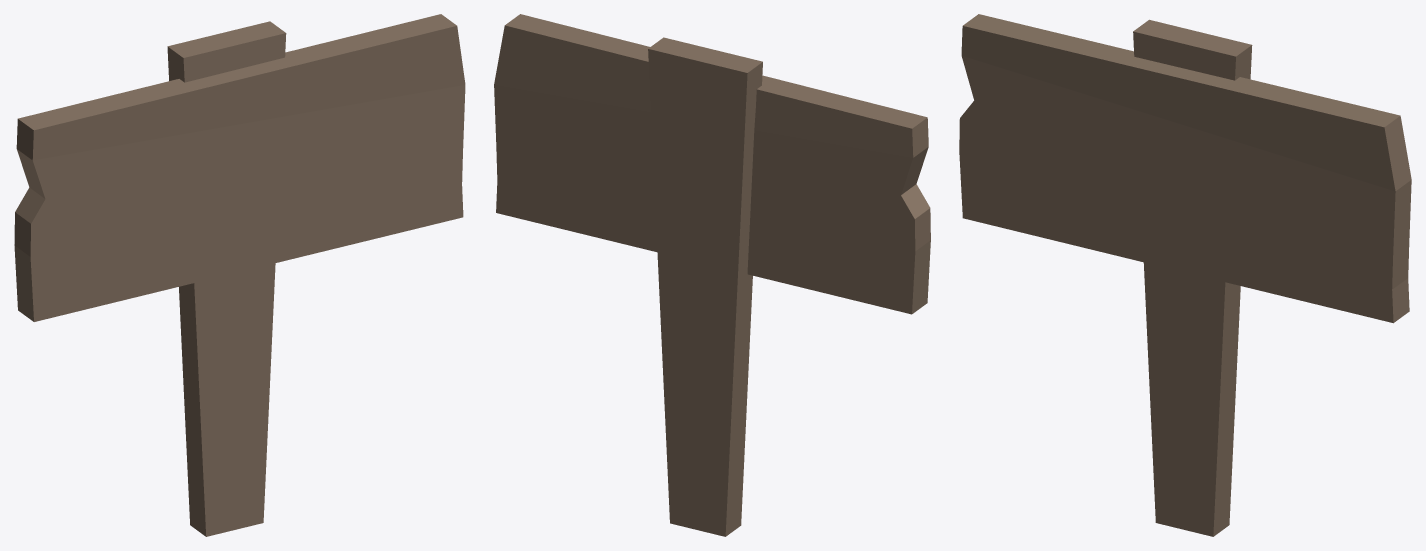
Rendered from sign_caution.gltf.
3 renders of one model, left to right at view 1: azimuth 30°, elevation 25°; view 2: azimuth 150°, elevation 25°; view 3: azimuth 330°, elevation 25°, orthographic. The views are drawn at different scales.
Parts seen in each view (by area): view 1: SignCautionMesh; view 2: SignCautionMesh; view 3: SignCautionMesh.
Part boxes in pixels (bbox=[...]): SignCautionMesh: bbox=[14, 14, 465, 536]; SignCautionMesh: bbox=[494, 14, 930, 536]; SignCautionMesh: bbox=[959, 14, 1411, 536].
Size of what is drawn, in the model's own units: 1.03 by 1.09 by 0.1131.
1 material, 1 textured.
